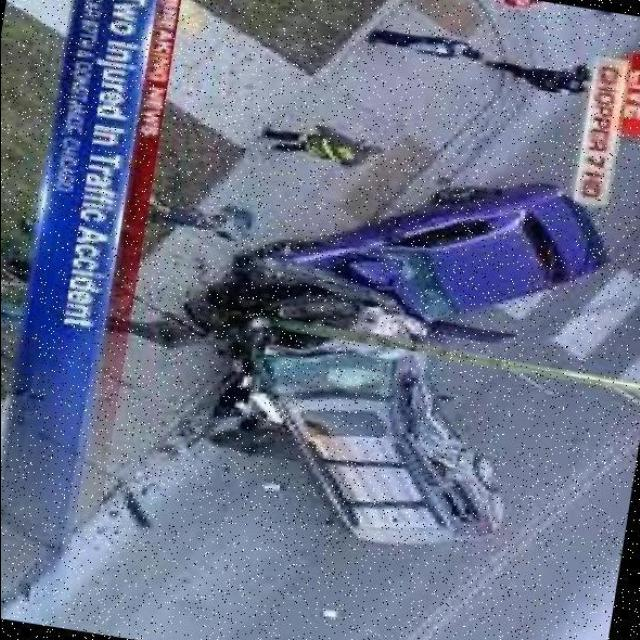accident: (224, 201, 464, 515)
